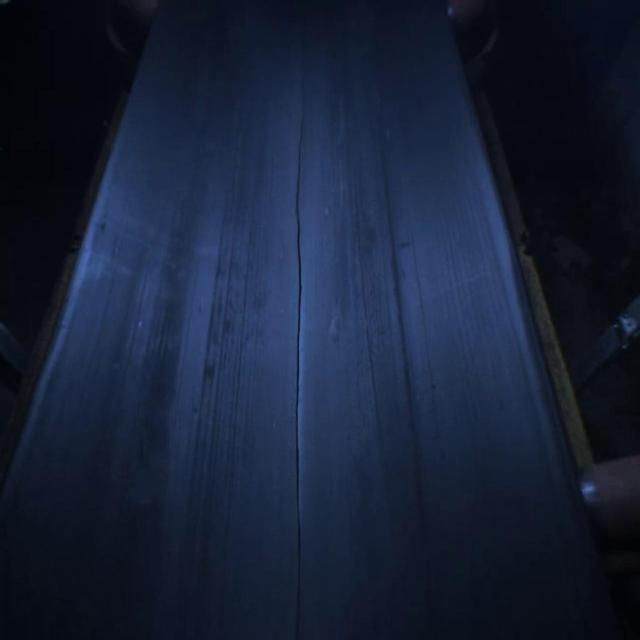Tear: (286, 43, 314, 639)
